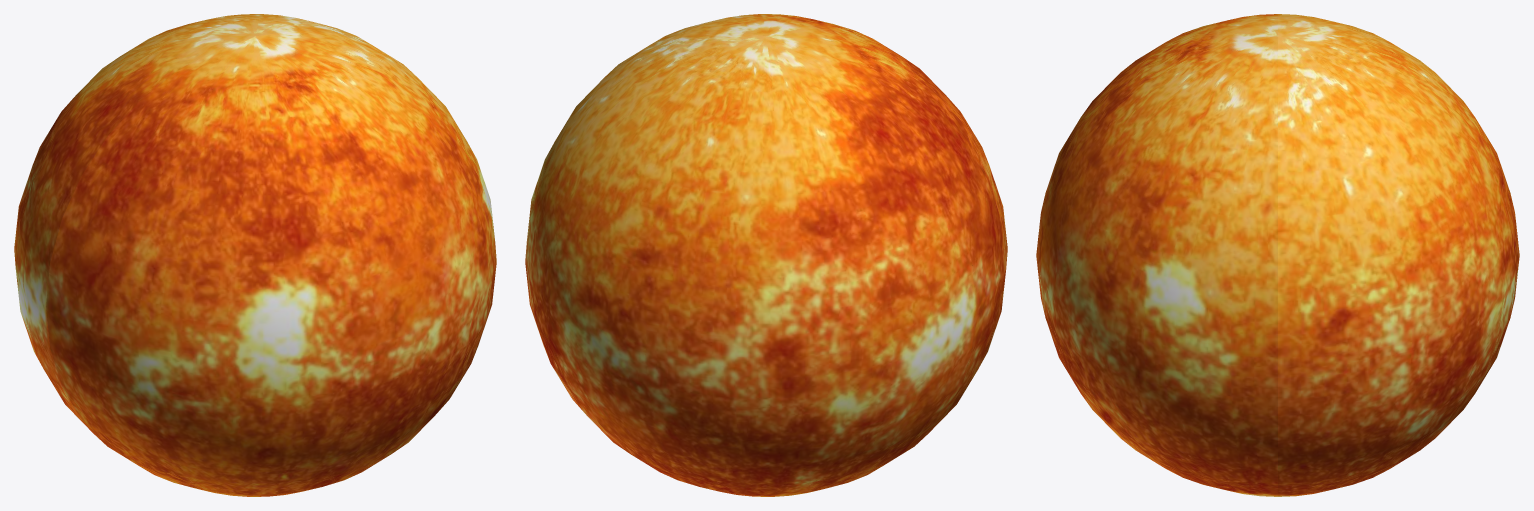
The model's file is Sun.glb.
3 renders of one model, left to right at view 1: azimuth 30°, elevation 25°; view 2: azimuth 150°, elevation 25°; view 3: azimuth 270°, elevation 25°, orthographic.
Visible parts, largest first — view 1: Sphere.015, Sphere.014; view 2: Sphere.014, Sphere.015; view 3: Sphere.014, Sphere.015.
Boxes of the visible parts, x1=… form: Sphere.015: x1=46, y1=30, x2=496, y2=496; Sphere.014: x1=14, y1=14, x2=370, y2=443; Sphere.014: x1=525, y1=30, x2=975, y2=496; Sphere.015: x1=651, y1=14, x2=1007, y2=443; Sphere.014: x1=1278, y1=14, x2=1519, y2=496; Sphere.015: x1=1036, y1=14, x2=1277, y2=496.
Size of the model in its own units: 2 by 2 by 2.
Materials: 7 (7 with a texture image).
